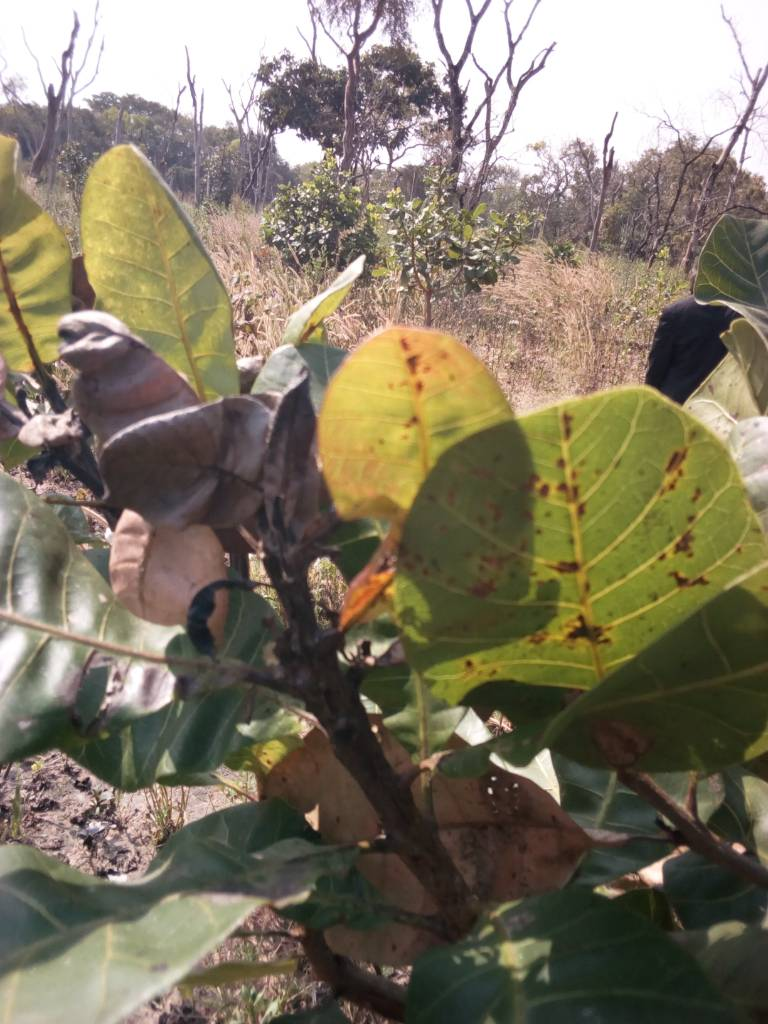Dessèchement des bourgeons: (186, 580, 277, 658)
